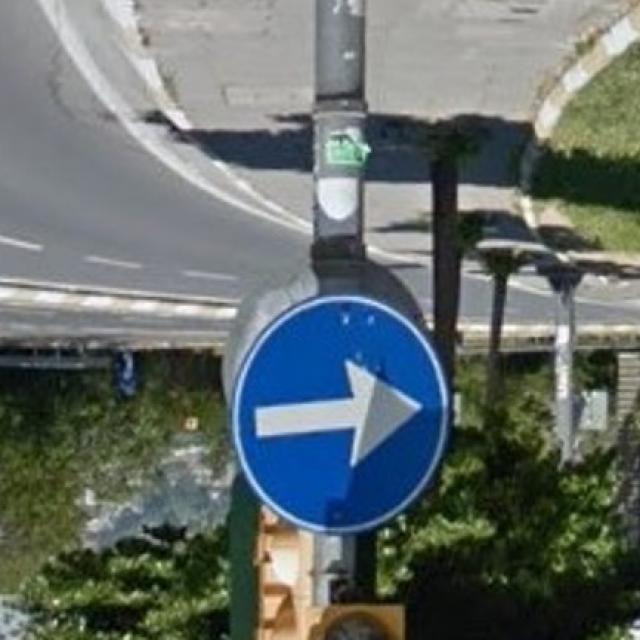Turn Right: (231, 294, 448, 536)
